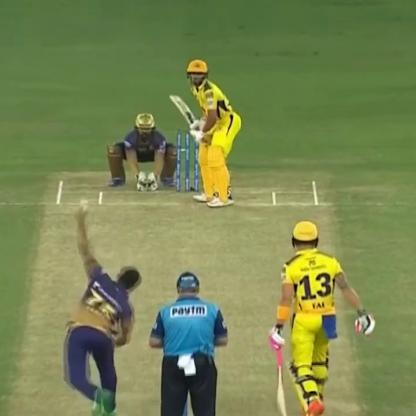ball: (71, 194, 93, 210)
bat: (270, 334, 293, 414), (165, 90, 198, 142)
